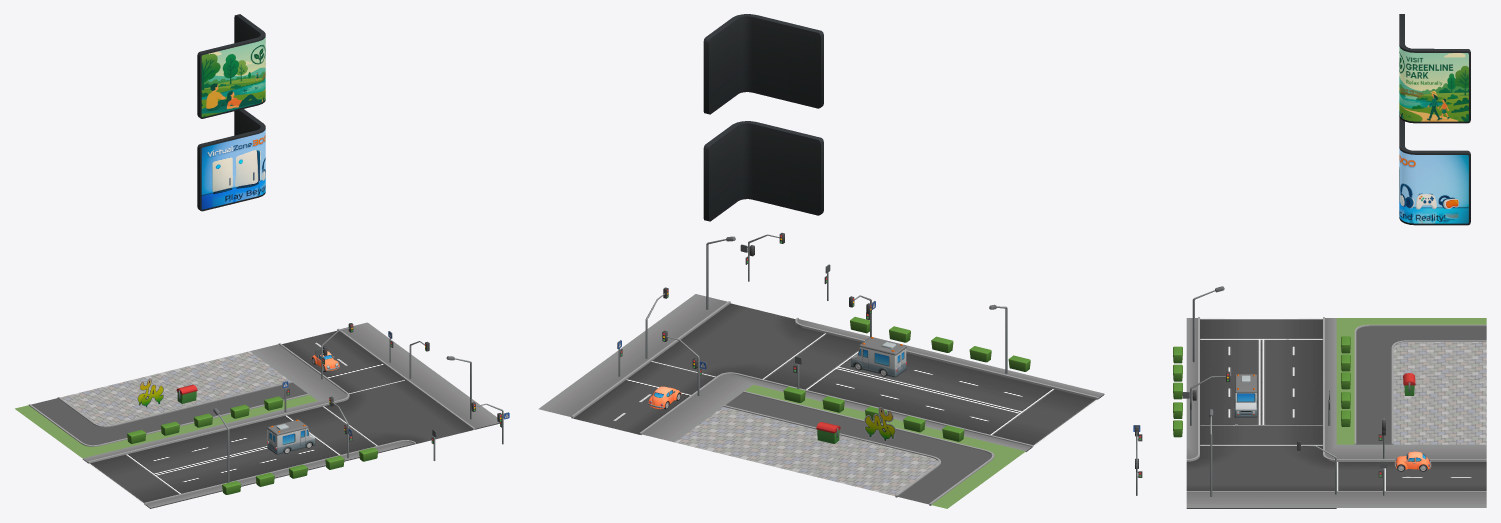
Rendered from north-central-east.gltf.
The picture shows the model from 3 angles, left to right: view 1: azimuth 30°, elevation 25°; view 2: azimuth 150°, elevation 25°; view 3: azimuth 270°, elevation 25°; orthographic projection. The views are drawn at different scales.
Visible parts, largest first — view 1: road_019.004, road_020.085, road_022.127, Set_B_Tiles_01.062, Set_B_Tiles_05.116, road_020.001, Billboard_2x1_05.002, Billboard_2x1_03.002, Van.002; view 2: road_019.004, road_020.085, road_022.127, Set_B_Tiles_01.062, Set_B_Tiles_05.116, Billboard_2x1_03.002, Billboard_2x1_05.002, road_020.001, Van.002, Graffiti_03.002; view 3: road_019.004, road_020.085, Set_B_Tiles_01.062, Set_B_Tiles_05.116, road_022.127, road_020.001, Billboard_2x1_03.002, Billboard_2x1_05.002, Van.002, Car_19.002.
Boxes of the visible parts, x1,y1,x2,y2 form: road_019.004: (318,372,499,451); road_020.085: (82,430,261,508); road_022.127: (250,322,435,400); Set_B_Tiles_01.062: (15,380,199,458); Set_B_Tiles_05.116: (132,351,317,429); road_020.001: (200,401,385,478); Billboard_2x1_05.002: (197,14,265,118); Billboard_2x1_03.002: (197,109,265,211); Van.002: (267,419,315,454); road_019.004: (617,294,831,384); road_020.085: (893,360,1104,451); road_022.127: (538,351,752,442); Set_B_Tiles_01.062: (811,419,1025,508); Set_B_Tiles_05.116: (675,385,881,475); Billboard_2x1_03.002: (703,121,823,221); Billboard_2x1_05.002: (703,14,823,114); road_020.001: (753,327,967,415); Van.002: (851,336,906,377); Graffiti_03.002: (864,407,896,441); road_019.004: (1186,443,1336,508); road_020.085: (1186,317,1336,382); Set_B_Tiles_01.062: (1336,318,1486,381); Set_B_Tiles_05.116: (1336,380,1486,444); road_022.127: (1336,444,1486,507); road_020.001: (1186,380,1336,445); Billboard_2x1_03.002: (1399,117,1470,225); Billboard_2x1_05.002: (1399,14,1470,123); Van.002: (1234,374,1257,417); Car_19.002: (1394,451,1431,469).
Bounding box in the file's own units: 45 × 42.43 × 35.31.
Materials: 15 (13 with a texture image).
